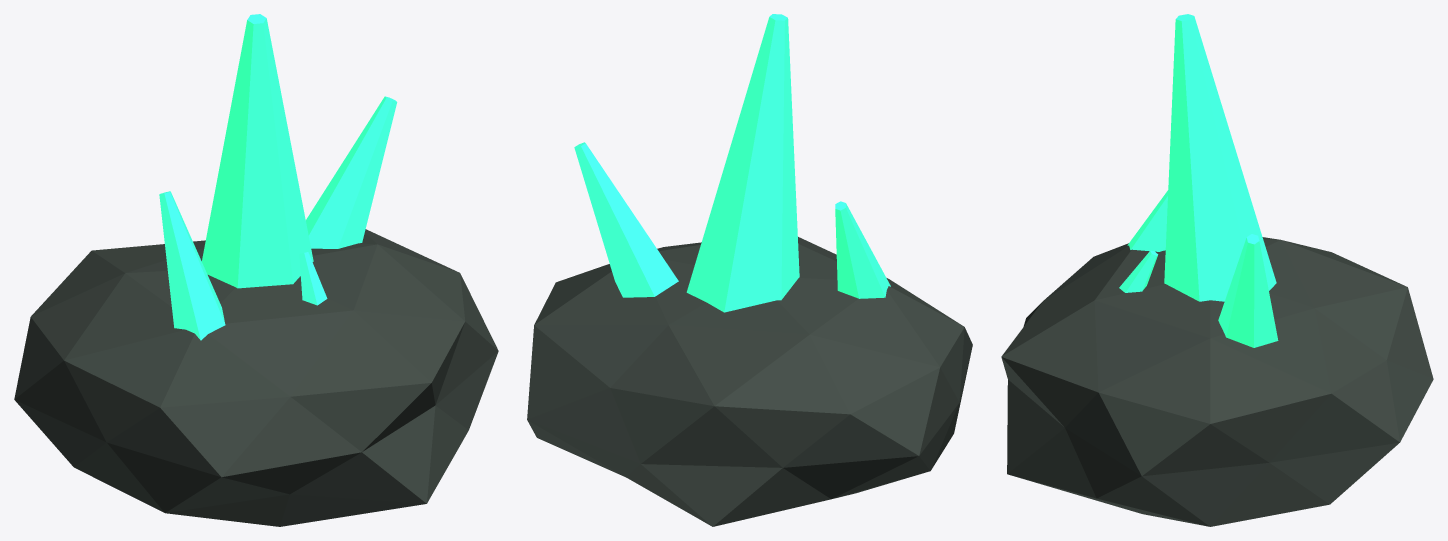
Rendered from EM_EmeraldCrystal_Outcrop.glb.
3 renders of one model, left to right at view 1: azimuth 30°, elevation 25°; view 2: azimuth 150°, elevation 25°; view 3: azimuth 270°, elevation 25°, orthographic. The views are drawn at different scales.
Parts seen in each view (by area): view 1: EM_EmeraldCrystal_Outcrop__StoneDark, EM_EmeraldCrystal_Outcrop__JadeGlow; view 2: EM_EmeraldCrystal_Outcrop__StoneDark, EM_EmeraldCrystal_Outcrop__JadeGlow; view 3: EM_EmeraldCrystal_Outcrop__StoneDark, EM_EmeraldCrystal_Outcrop__JadeGlow.
Boxes of the visible parts, x1=… form: EM_EmeraldCrystal_Outcrop__StoneDark: x1=14, y1=229, x2=498, y2=526; EM_EmeraldCrystal_Outcrop__JadeGlow: x1=159, y1=14, x2=397, y2=340; EM_EmeraldCrystal_Outcrop__StoneDark: x1=527, y1=237, x2=972, y2=526; EM_EmeraldCrystal_Outcrop__JadeGlow: x1=574, y1=14, x2=890, y2=312; EM_EmeraldCrystal_Outcrop__StoneDark: x1=1001, y1=237, x2=1433, y2=526; EM_EmeraldCrystal_Outcrop__JadeGlow: x1=1119, y1=14, x2=1278, y2=347.
Bounding box in the file's own units: 9.79 × 10.67 × 9.21.
